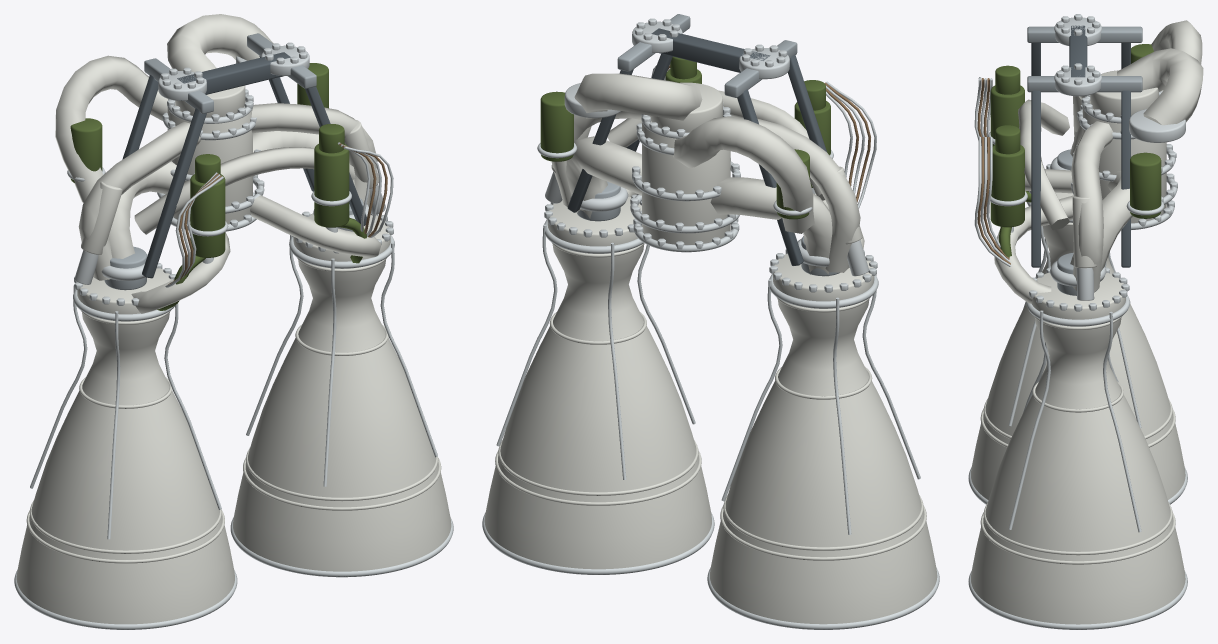
The model's file is RD180_Engine.fbx.
3 renders of one model, left to right at view 1: azimuth 30°, elevation 25°; view 2: azimuth 150°, elevation 25°; view 3: azimuth 270°, elevation 25°, orthographic. The views are drawn at different scales.
Parts seen in each view (by area): view 1: Geometry_IvoryCoating, Geometry_PipeSteel, Geometry_OliveEquipment, Geometry_NozzleAlloy, Geometry_BrushedSteel, Geometry_HeatTint; view 2: Geometry_IvoryCoating, Geometry_PipeSteel, Geometry_NozzleAlloy, Geometry_OliveEquipment, Geometry_BrushedSteel, Geometry_HeatTint; view 3: Geometry_IvoryCoating, Geometry_PipeSteel, Geometry_OliveEquipment, Geometry_NozzleAlloy, Geometry_BrushedSteel, Geometry_HeatTint.
Boxes of the visible parts, x1,y1,x2,y2 form: Geometry_IvoryCoating: (16, 14, 451, 624); Geometry_PipeSteel: (14, 42, 453, 629); Geometry_OliveEquipment: (70, 63, 366, 310); Geometry_NozzleAlloy: (122, 52, 366, 278); Geometry_BrushedSteel: (104, 33, 363, 290); Geometry_HeatTint: (168, 143, 387, 284); Geometry_IvoryCoating: (484, 73, 937, 624); Geometry_PipeSteel: (482, 18, 939, 629); Geometry_NozzleAlloy: (567, 28, 827, 265); Geometry_OliveEquipment: (540, 56, 830, 219); Geometry_BrushedSteel: (576, 14, 839, 276); Geometry_HeatTint: (667, 65, 870, 202); Geometry_IvoryCoating: (971, 20, 1203, 624); Geometry_PipeSteel: (968, 14, 1187, 629); Geometry_OliveEquipment: (990, 44, 1161, 257); Geometry_NozzleAlloy: (1031, 25, 1130, 267); Geometry_BrushedSteel: (1027, 26, 1142, 295); Geometry_HeatTint: (977, 78, 1010, 264).
Size of the model in its own units: 3.11 by 3.59 by 1.57.
